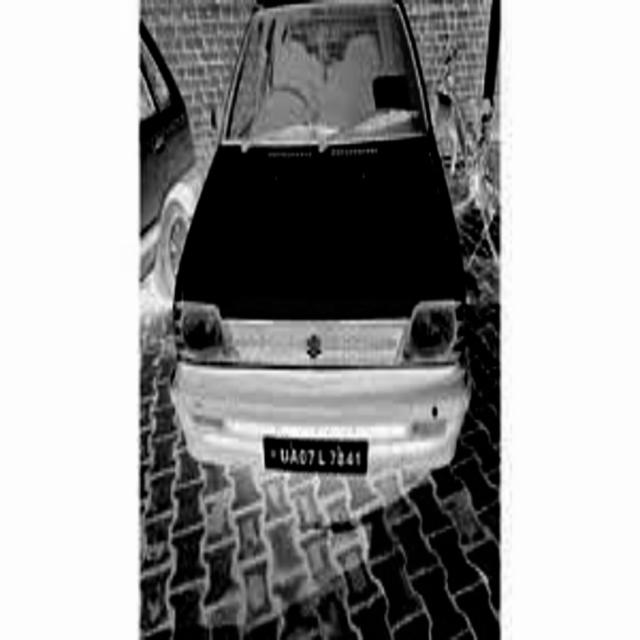Non_registered: (265, 438, 366, 473)
